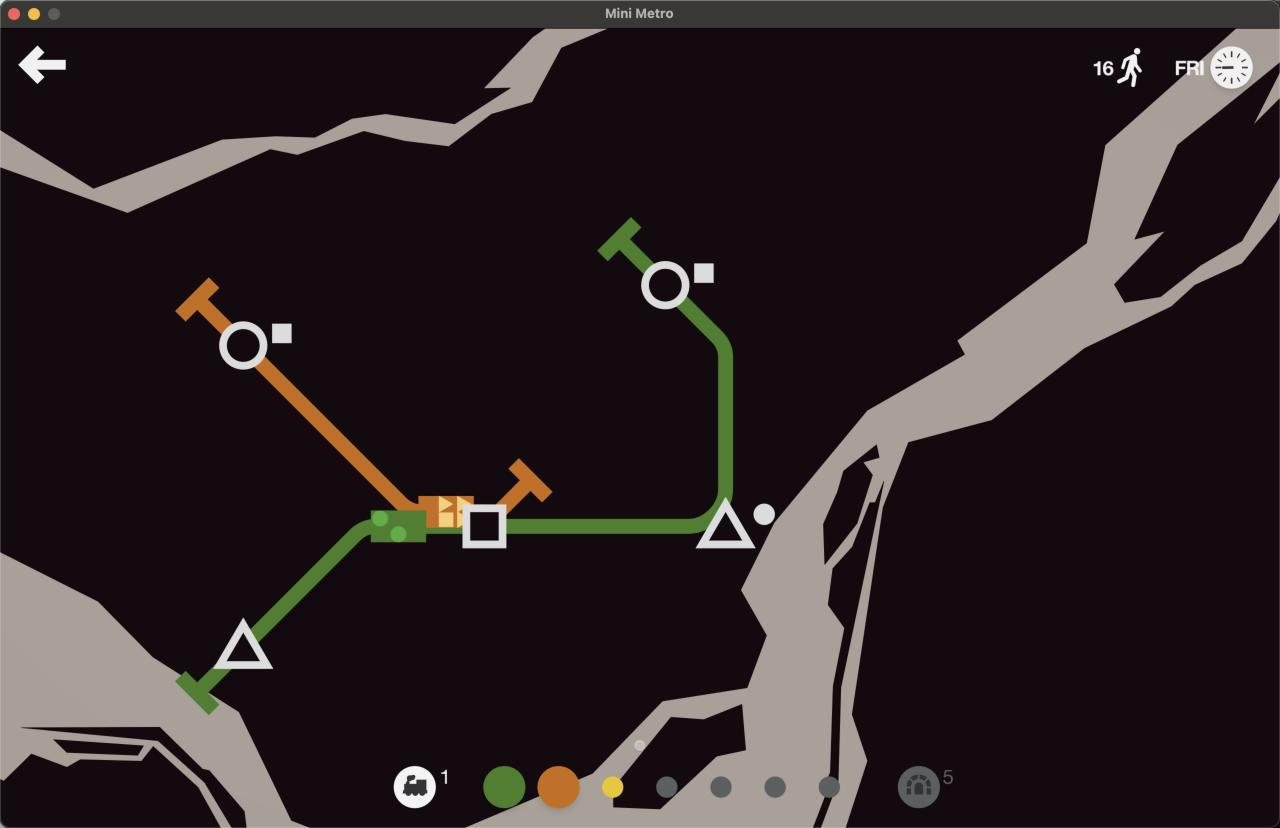DARK GREEN LINE: (507, 298, 732, 535), (251, 512, 461, 639), (598, 219, 653, 271), (176, 668, 230, 714)
ORANGE YELLOW LINE: (257, 362, 471, 525), (175, 278, 235, 332), (498, 462, 554, 516)
